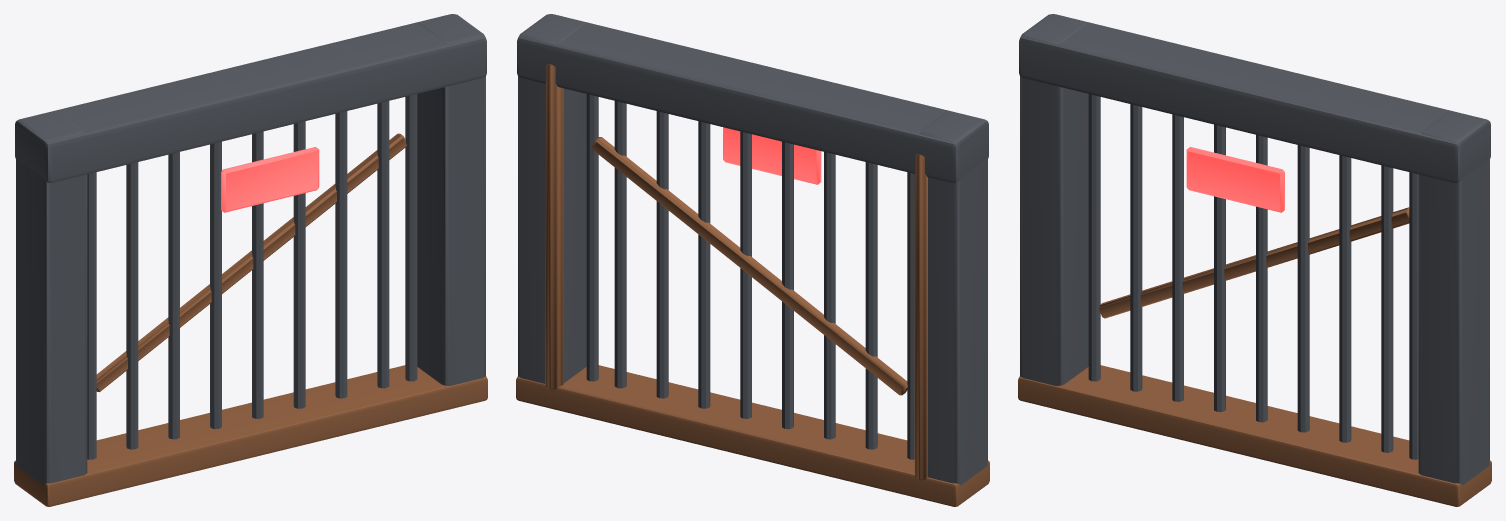
The model's file is arena_gate.glb.
3 views of the same model, side by side, from view 1: azimuth 30°, elevation 25°; view 2: azimuth 150°, elevation 25°; view 3: azimuth 330°, elevation 25° (orthographic).
Visible parts, largest first — view 1: arena_gate; view 2: arena_gate; view 3: arena_gate.
Part boxes in pixels (x1,y1,x2,y2): arena_gate: [14, 14, 487, 506]; arena_gate: [516, 14, 989, 506]; arena_gate: [1018, 14, 1491, 506].
Size of the model in its own units: 4.55 by 3.6 by 0.6993.
